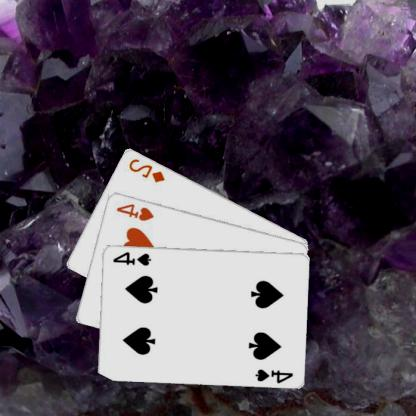2D: (128, 156, 168, 184)
4H: (115, 200, 157, 223)
4S: (111, 249, 154, 267), (254, 366, 296, 384)
